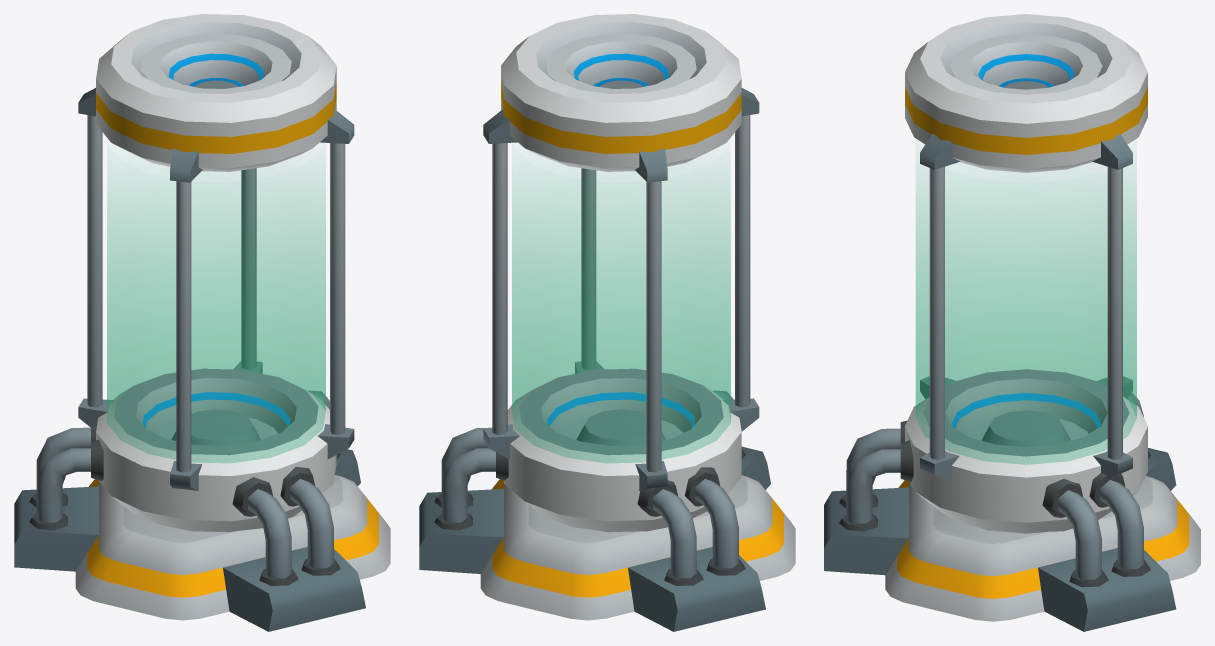
3 renders of one model, left to right at view 1: azimuth 30°, elevation 25°; view 2: azimuth 150°, elevation 25°; view 3: azimuth 270°, elevation 25°, orthographic.
Parts seen in each view (by area): view 1: Сapsule_002; view 2: Сapsule_002; view 3: Сapsule_002.
Boxes of the visible parts, x1,y1,x2,y2 form: Сapsule_002: (14, 14, 390, 631); Сapsule_002: (419, 14, 795, 631); Сapsule_002: (824, 14, 1200, 631).
Bounding box in the file's own units: 1.49 × 2 × 1.4.
3 materials, 3 textured.
